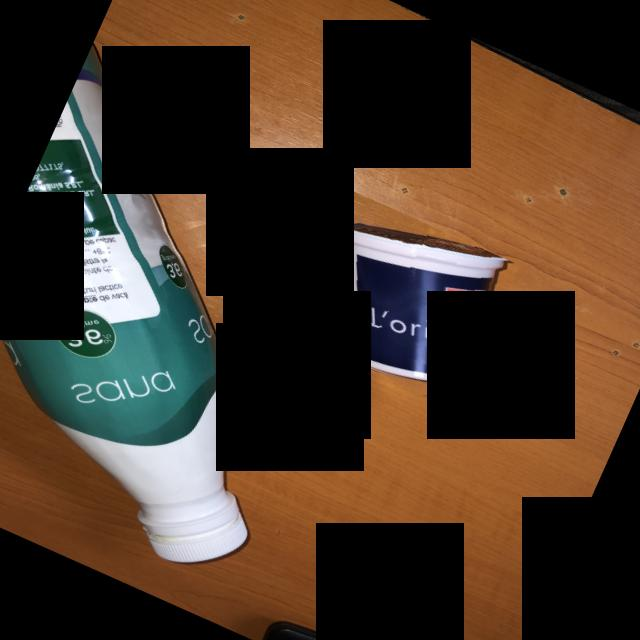yogurt: (266, 181, 520, 409)
